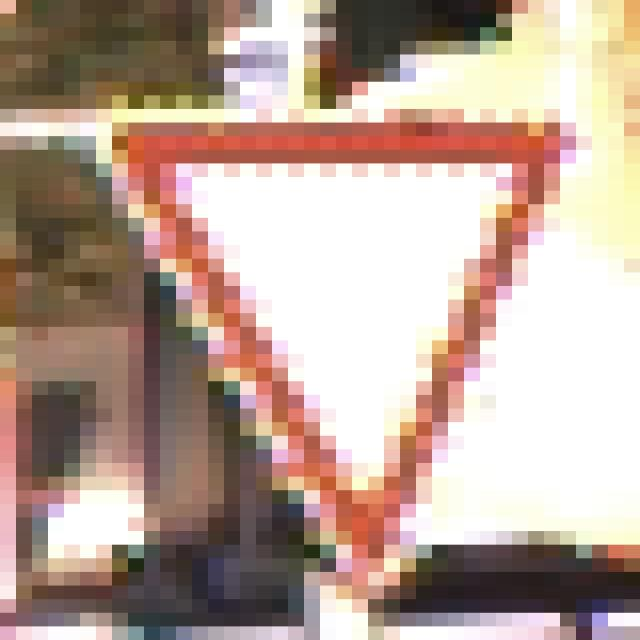Give Way: (81, 83, 561, 559)
